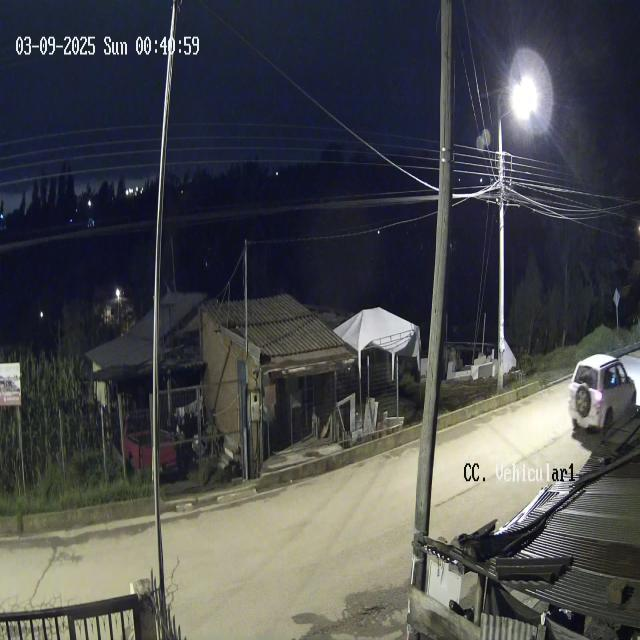SUV: (567, 354, 635, 440)
